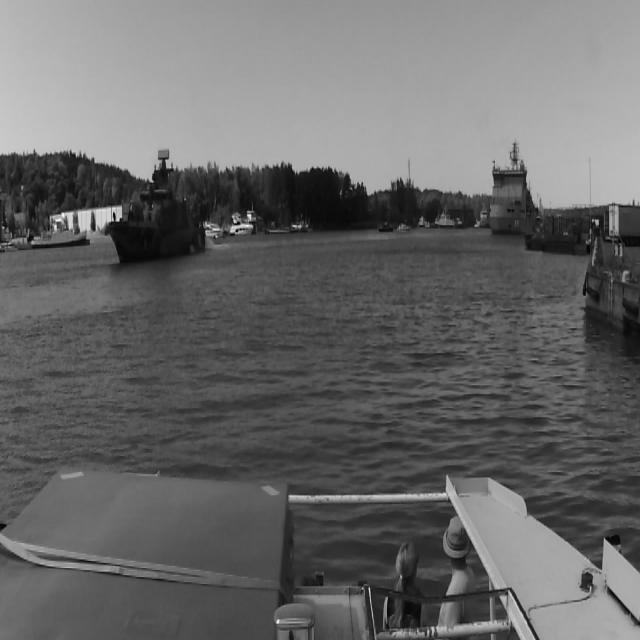ship: (106, 148, 206, 268), (490, 141, 540, 233), (27, 220, 91, 250), (435, 204, 464, 228), (229, 216, 254, 235), (206, 222, 223, 238), (290, 221, 312, 231), (416, 210, 426, 228), (379, 221, 393, 232), (396, 223, 410, 232), (481, 210, 488, 228), (473, 218, 481, 228)
